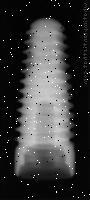Keystone Dental: (14, 15, 76, 181)
